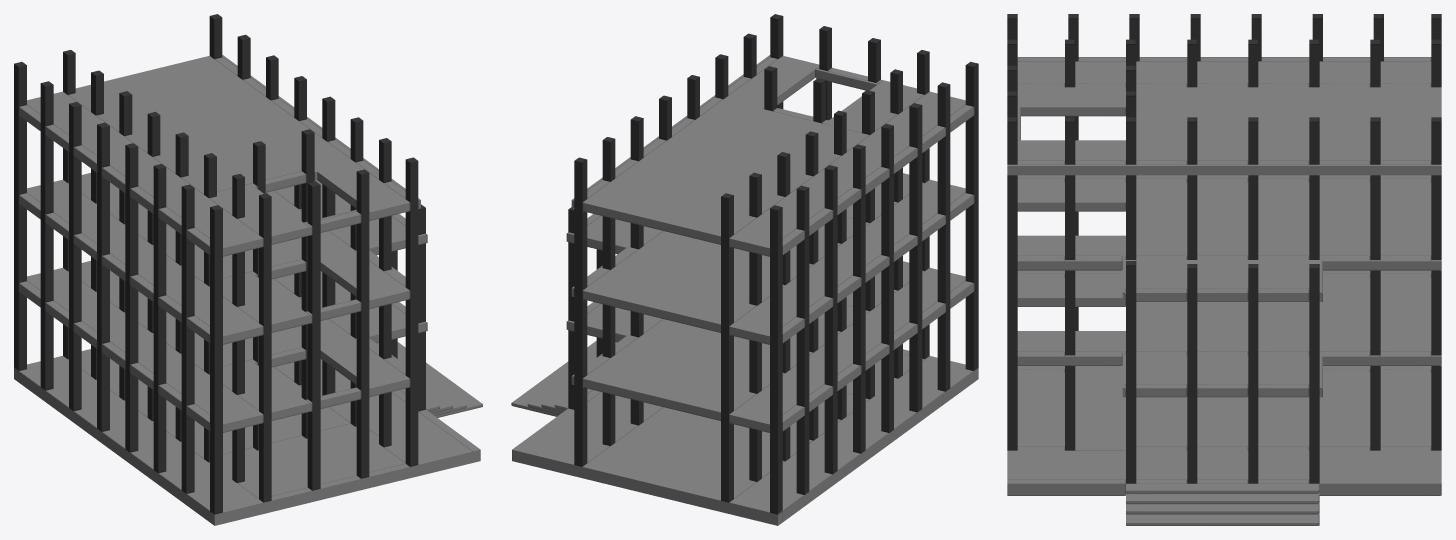
Rendered from plac_bu2.dae.
The picture shows the model from 3 angles, left to right: view 1: azimuth 30°, elevation 25°; view 2: azimuth 150°, elevation 25°; view 3: azimuth 270°, elevation 25°; orthographic projection. The views are drawn at different scales.
Parts seen in each view (by area): view 1: Content; view 2: Content; view 3: Content.
Part boxes in pixels (x1=…): Content: x1=14, y1=14, x2=482, y2=525; Content: x1=511, y1=14, x2=978, y2=525; Content: x1=1007, y1=14, x2=1441, y2=525.
Bounding box in the file's own units: 119 × 111 × 128.
Materials: 1 (1 with a texture image).
